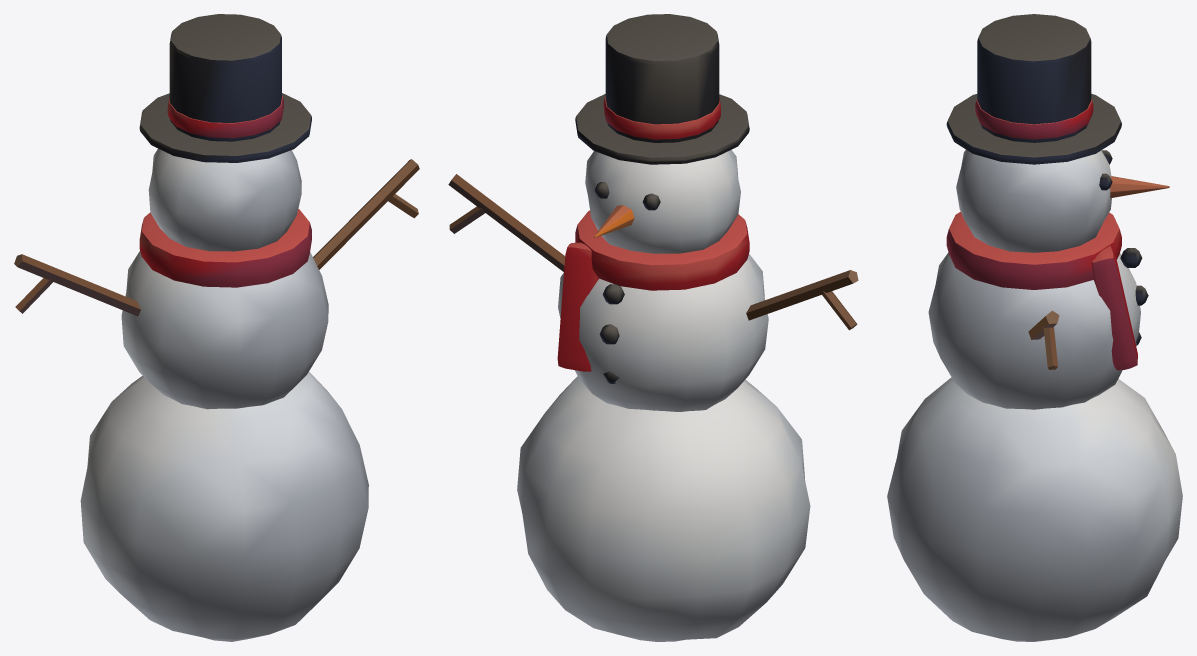
File: Snowman.fbx
3 renders of one model, left to right at view 1: azimuth 30°, elevation 25°; view 2: azimuth 150°, elevation 25°; view 3: azimuth 270°, elevation 25°, orthographic.
Parts seen in each view (by area): view 1: SM_Xmas_Snowman; view 2: SM_Xmas_Snowman; view 3: SM_Xmas_Snowman.
Part boxes in pixels (x1=…): SM_Xmas_Snowman: x1=14, y1=14, x2=419, y2=641; SM_Xmas_Snowman: x1=448, y1=14, x2=858, y2=641; SM_Xmas_Snowman: x1=887, y1=14, x2=1182, y2=641.
Size of the model in its own units: 5.08 by 7.1 by 3.21.
